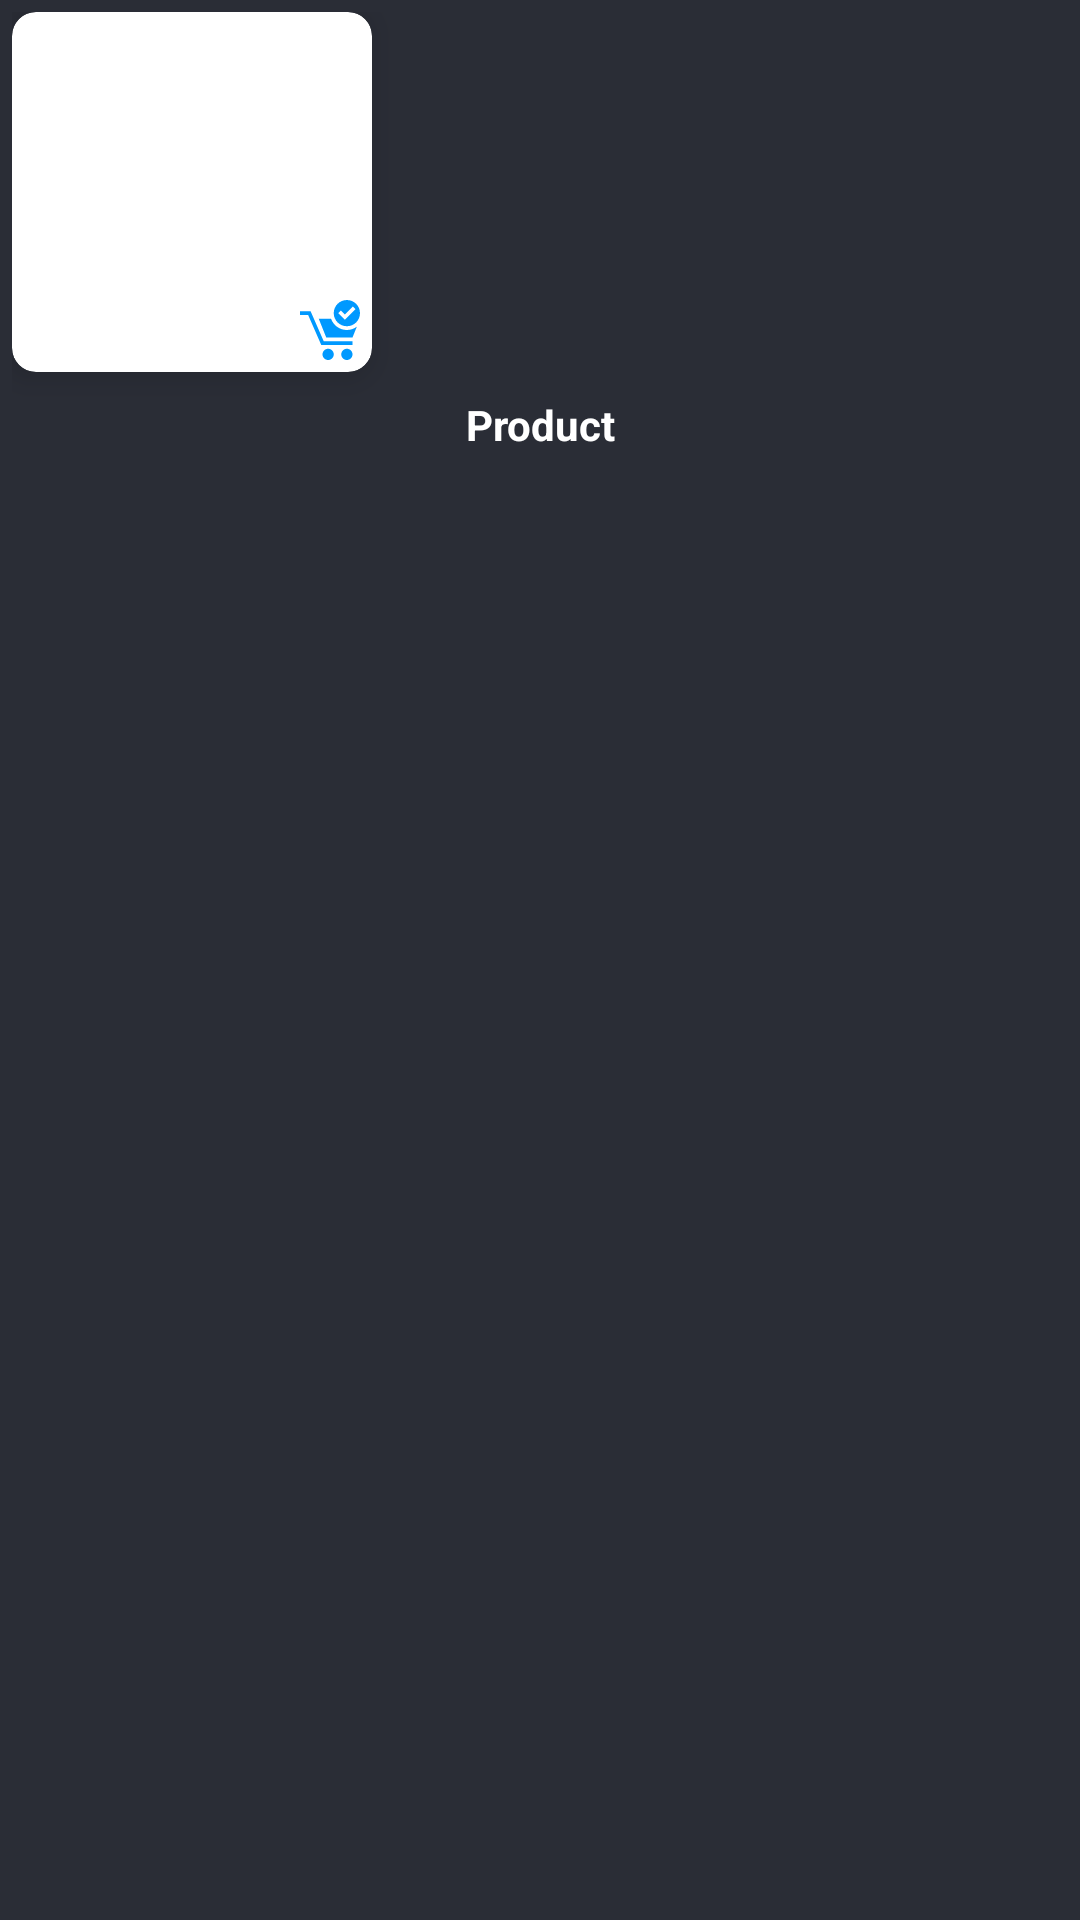

Locate icon controls on the screen. Image size 1080*1920, boxes as (x1, y1, x2, y2).
verify: (300, 300, 360, 360)
